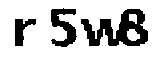5: (49, 4, 78, 50)
8: (118, 8, 149, 47)
r: (12, 17, 41, 48)
w: (79, 16, 122, 51)
